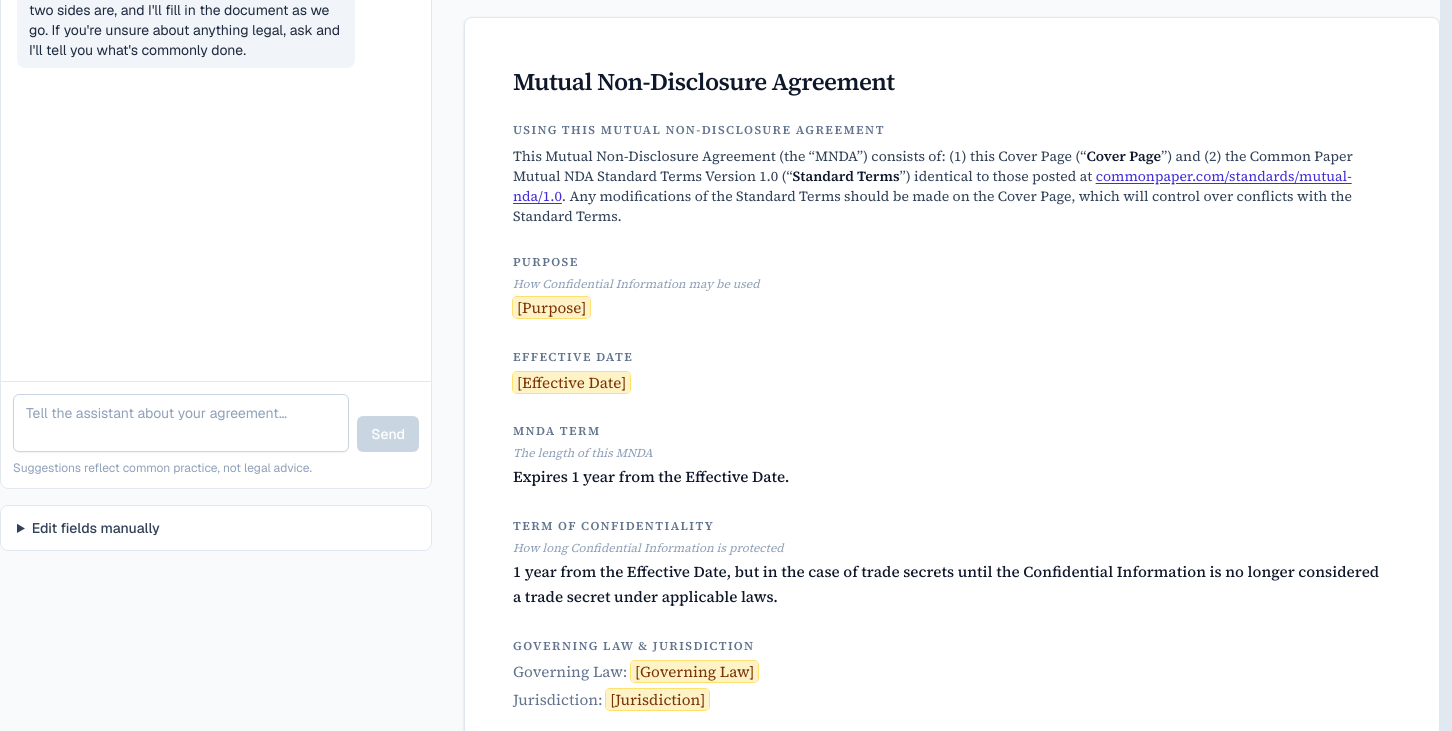
Scenario: drafting by chat › fills a party without disturbing the other
Type "We are Acme." into the text box named "Message the drafting assistant".
click(181, 423); type("We are Acme.")  # box top-left (13, 394), bottom-right (349, 452)
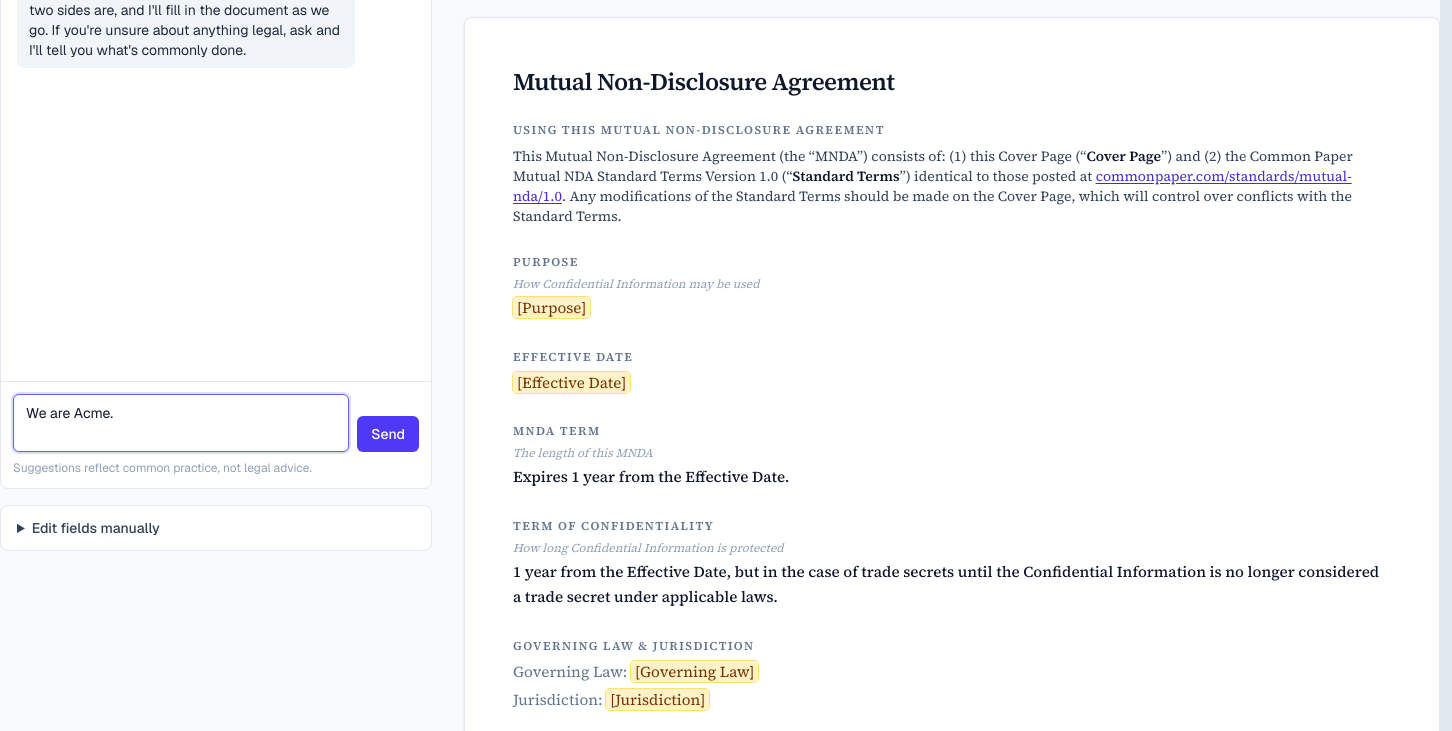
Click the button "Send".
click(388, 434)  # box top-left (357, 416), bottom-right (419, 452)
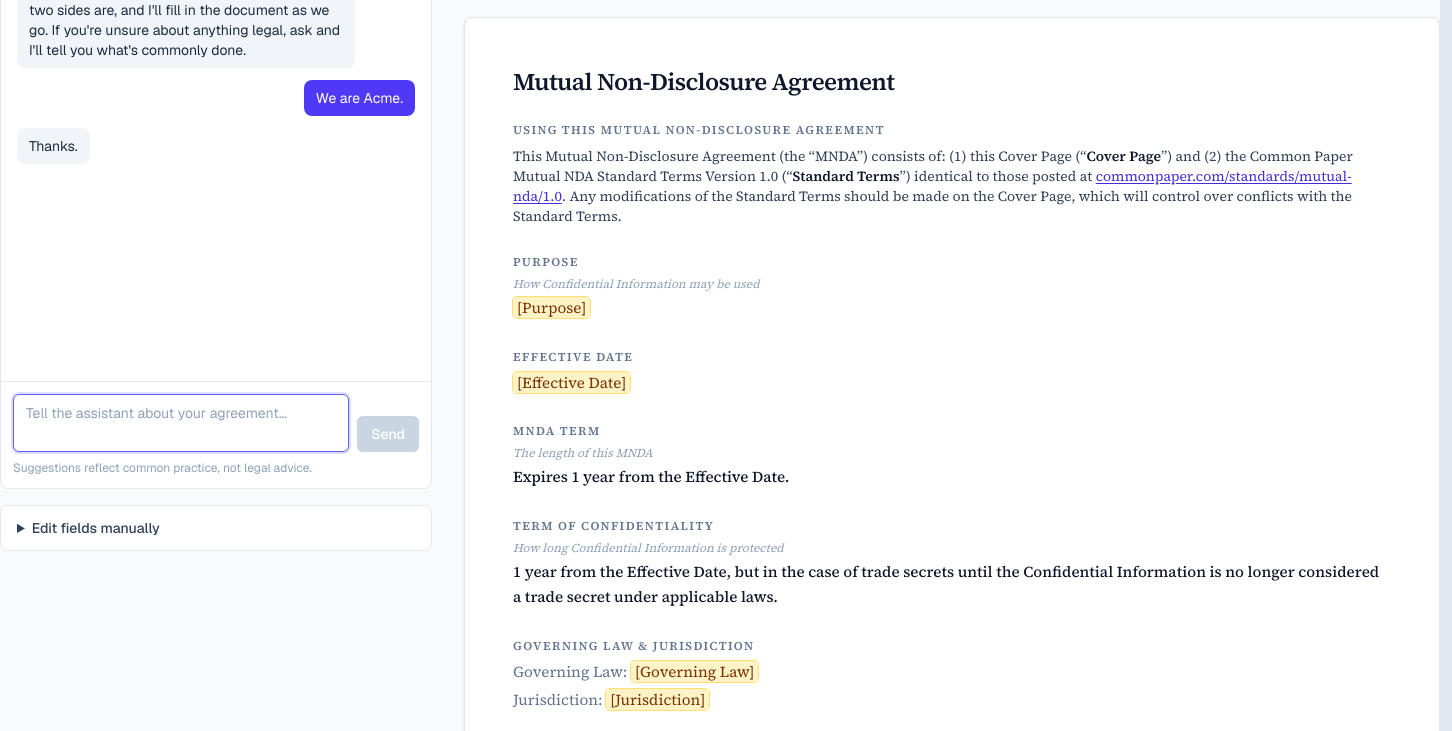
expect the text "Thanks." is shown: met, box top-left (17, 128), bottom-right (90, 164)
Click the heading "Edit fields manually".
click(96, 528)  # box top-left (32, 519), bottom-right (160, 537)
(page scrolled)
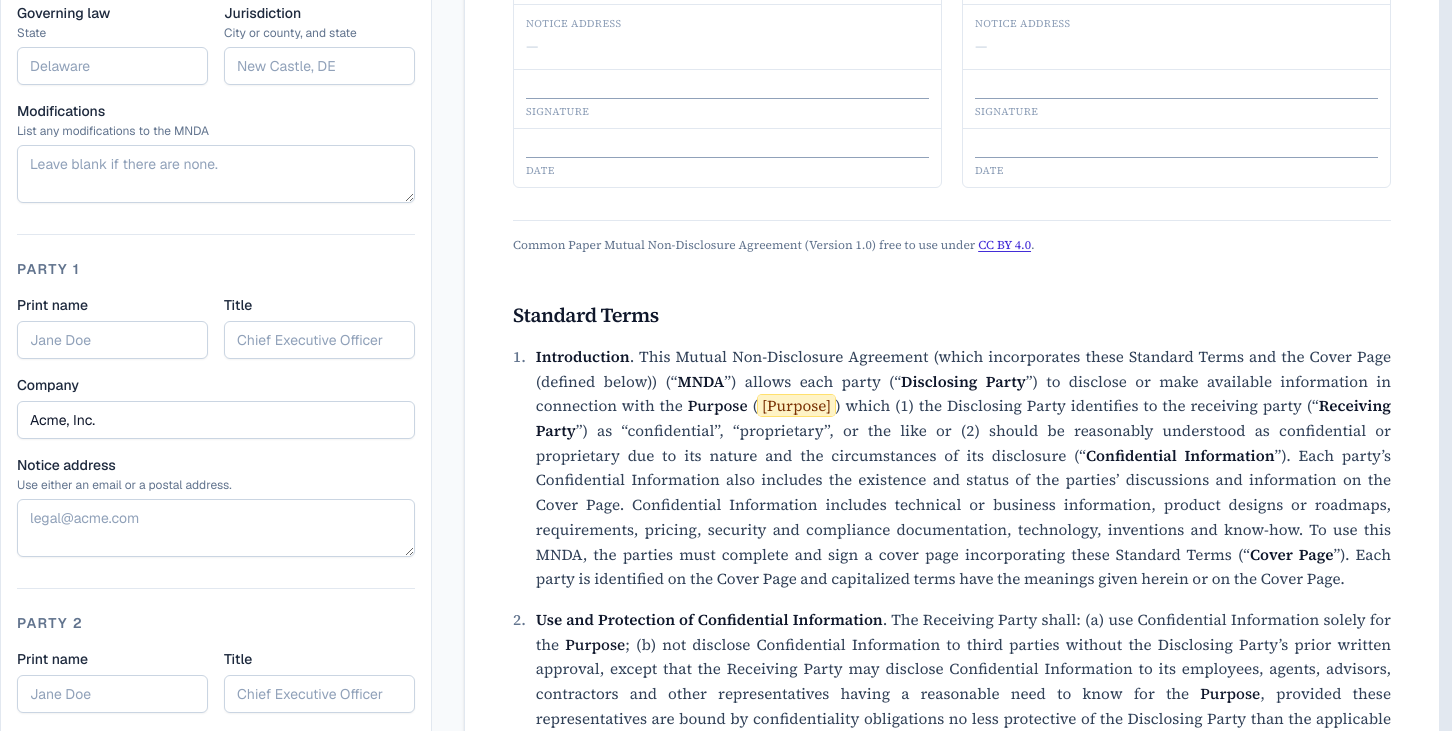
expect the field labelled "Company" holds "Acme, Inc.": met, box top-left (17, 401), bottom-right (415, 439)
expect the 1st field labelled "Print name" is empty: met, box top-left (17, 321), bottom-right (208, 359)
